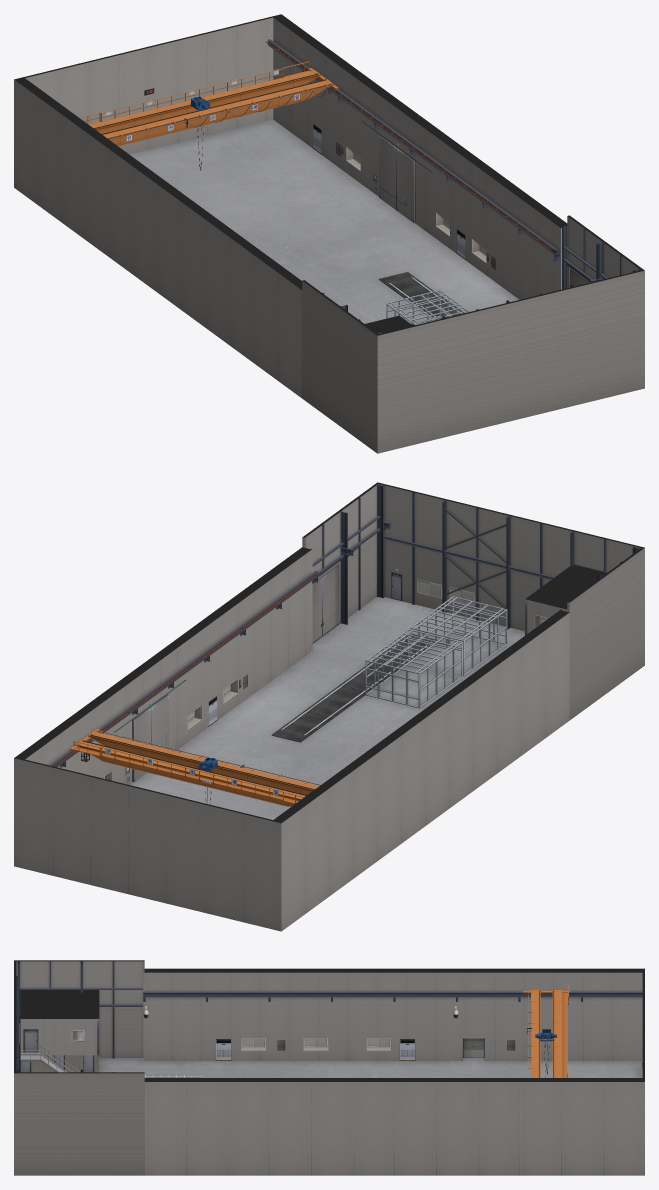
The model's file is INTERIOR.glb.
3 views of the same model, one above another, from view 1: azimuth 30°, elevation 25°; view 2: azimuth 150°, elevation 25°; view 3: azimuth 270°, elevation 25° (orthographic). The views are drawn at different scales.
Visible parts, largest first — view 1: Object068, Object066, Box001; view 2: Object068, Object066, Box001; view 3: Object068, Object066.
Part boxes in pixels (x1=…): Object068: x1=14, y1=14, x2=644, y2=453; Object066: x1=79, y1=61, x2=338, y2=170; Box001: x1=386, y1=290, x2=469, y2=325; Object068: x1=14, y1=482, x2=644, y2=931; Object066: x1=70, y1=729, x2=320, y2=806; Box001: x1=365, y1=596, x2=507, y2=708; Object068: x1=14, y1=960, x2=644, y2=1175; Object066: x1=523, y1=985, x2=569, y2=1077.
Size of the model in its own units: 22.3 by 9.4 by 52.5.
4 materials, 4 textured.
